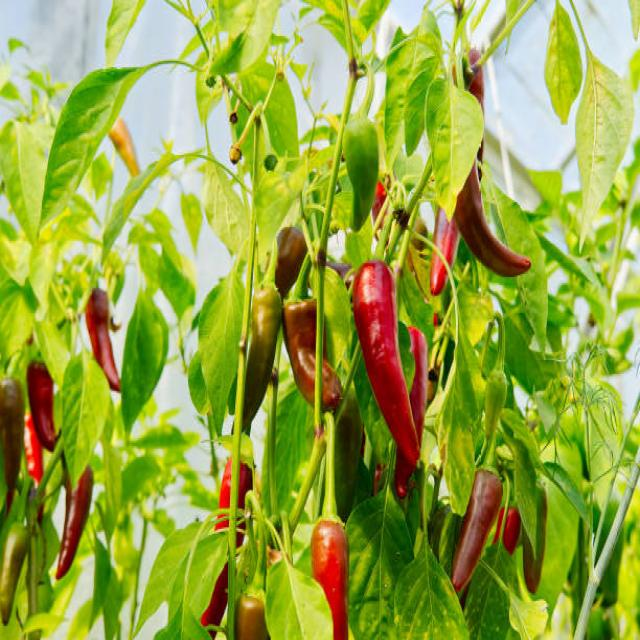Half-Ripe: (280, 275, 325, 404)
Ripe: (353, 261, 419, 466), (452, 177, 532, 279), (451, 471, 502, 591), (311, 520, 353, 640)
Unripe: (238, 296, 278, 440), (342, 125, 382, 233), (0, 526, 28, 623)
